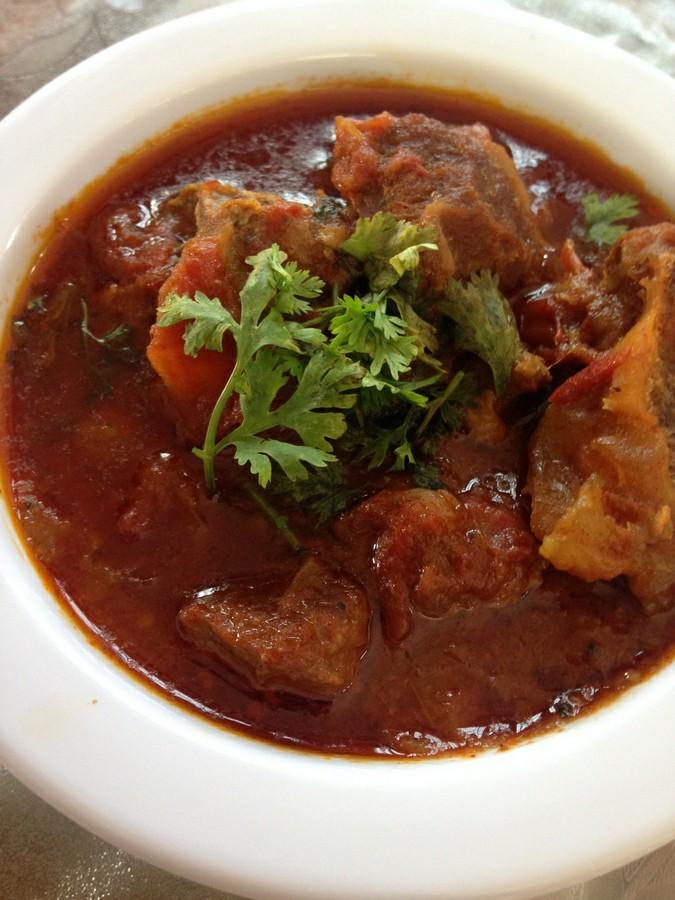MuttonCurry: (0, 80, 675, 758)
